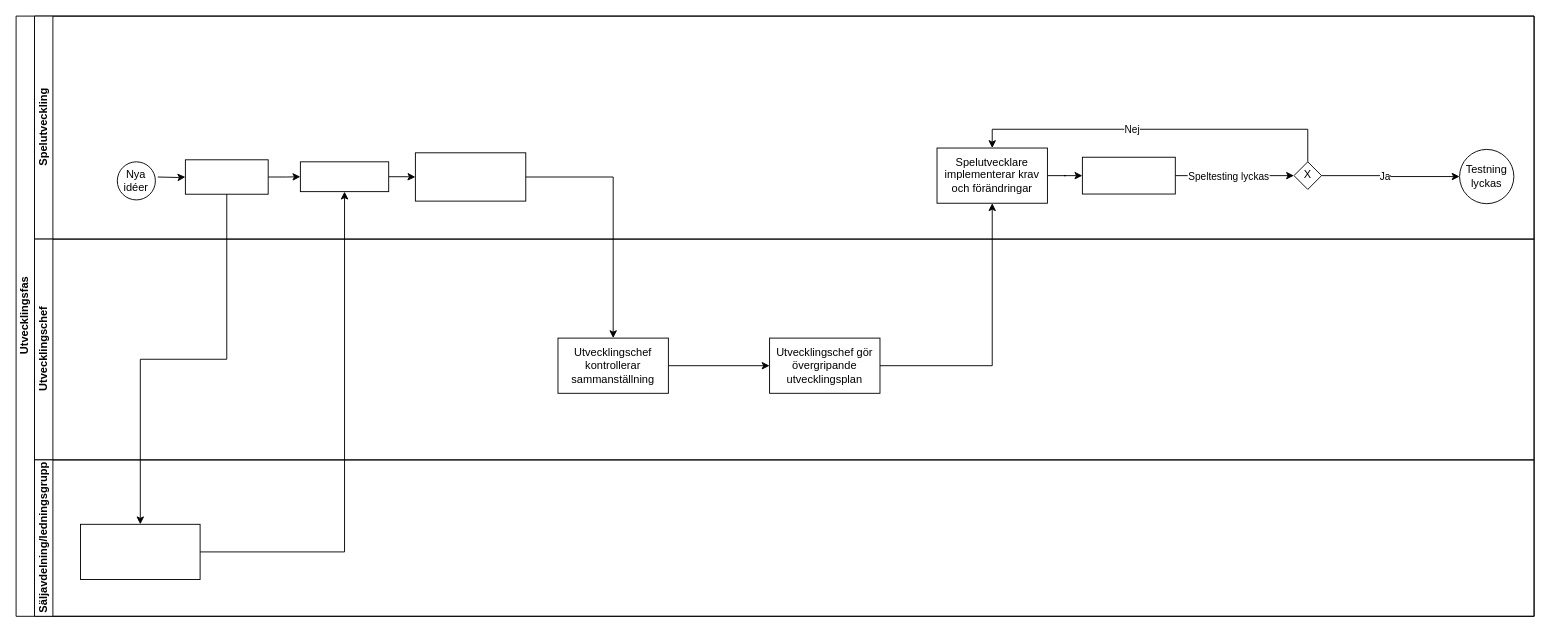
This 1550x633 diagram has some shape labels left out. Each missing label, with the centre of its shape:
"Förfrågan om krav" goes at [226,176].
"Kravanalys" goes at [344,176].
"Speltestning" goes at [1128,175].
"Säljavdelningen/ledningsgrupp sammanställer krav" goes at [140,551].
"Utvecklare sammanställer krav + kommentarer" goes at [470,176].
